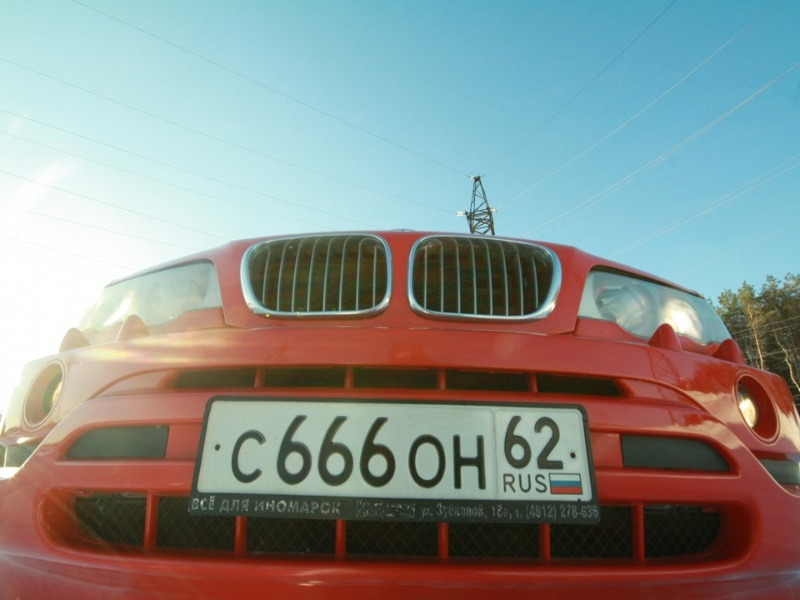car: (1, 230, 800, 600)
plate: (195, 399, 591, 498)
